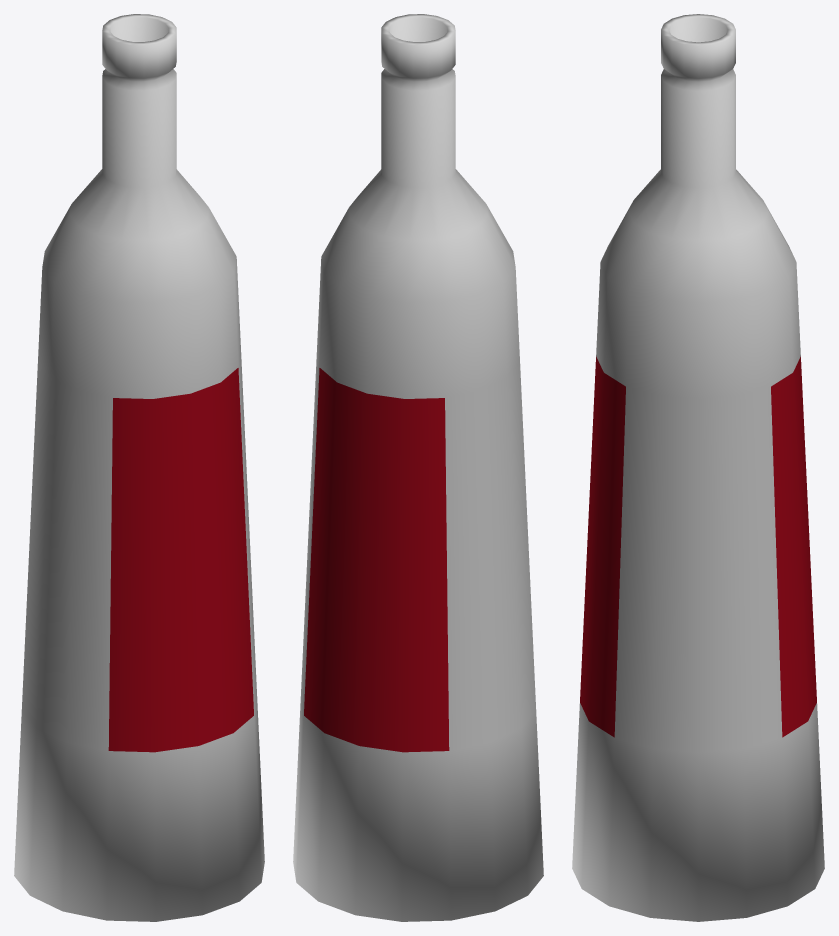
Rendered from Vodka1.fbx.
3 renders of one model, left to right at view 1: azimuth 30°, elevation 25°; view 2: azimuth 150°, elevation 25°; view 3: azimuth 270°, elevation 25°, orthographic.
Visible parts, largest first — view 1: Cylinder.002; view 2: Cylinder.002; view 3: Cylinder.002.
Part boxes in pixels (x1,y1,x2,y2): Cylinder.002: [14, 14, 264, 921]; Cylinder.002: [293, 14, 543, 921]; Cylinder.002: [572, 14, 824, 921].
Bounding box in the file's own units: 77.87 × 285 × 77.87.
